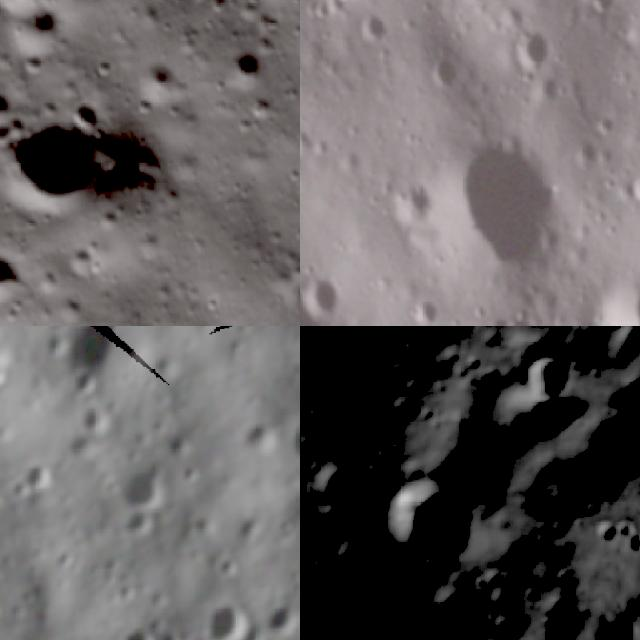crater: (437, 132, 566, 280), (0, 91, 125, 233), (367, 459, 499, 592), (315, 326, 431, 390), (514, 378, 598, 456), (211, 32, 290, 110), (121, 42, 194, 115), (519, 341, 591, 413), (0, 230, 37, 324), (60, 326, 128, 376), (595, 252, 640, 326), (115, 459, 168, 518), (508, 24, 563, 76), (300, 365, 332, 454), (196, 596, 255, 640), (588, 504, 634, 556), (303, 256, 340, 316), (422, 43, 461, 95), (63, 400, 116, 438), (0, 71, 26, 145), (277, 401, 300, 476), (12, 458, 59, 494), (396, 178, 432, 220), (357, 10, 393, 47), (110, 614, 153, 640), (572, 0, 615, 23), (621, 0, 640, 49), (498, 304, 535, 326)
